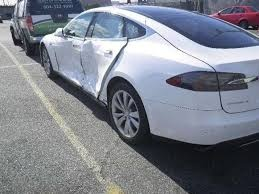Dent: (62, 40, 108, 92)
